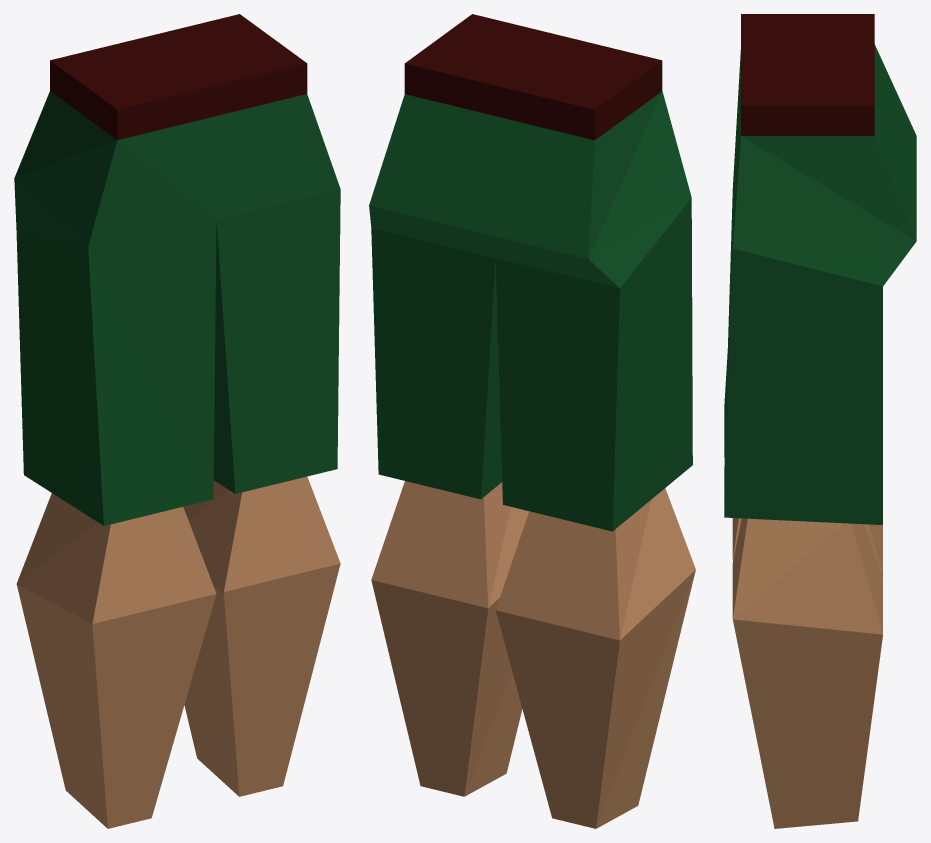
The model's file is model_271_idk.obj.
3 renders of one model, left to right at view 1: azimuth 30°, elevation 25°; view 2: azimuth 150°, elevation 25°; view 3: azimuth 270°, elevation 25°, orthographic.
Parts seen in each view (by area): view 1: 271; view 2: 271; view 3: 271.
Part boxes in pixels (<box>): 271: <box>14,14,340,828</box>; 271: <box>369,14,695,828</box>; 271: <box>724,14,916,828</box>.
Bounding box in the file's own units: 34 × 96 × 23.
